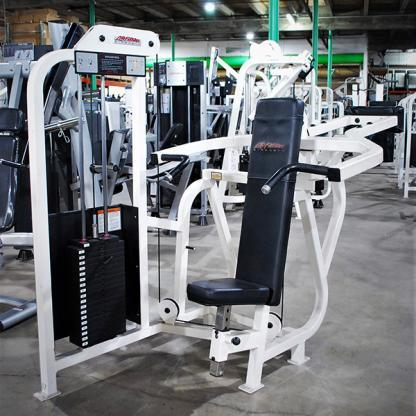shoulder press machine: (148, 98, 405, 397)
